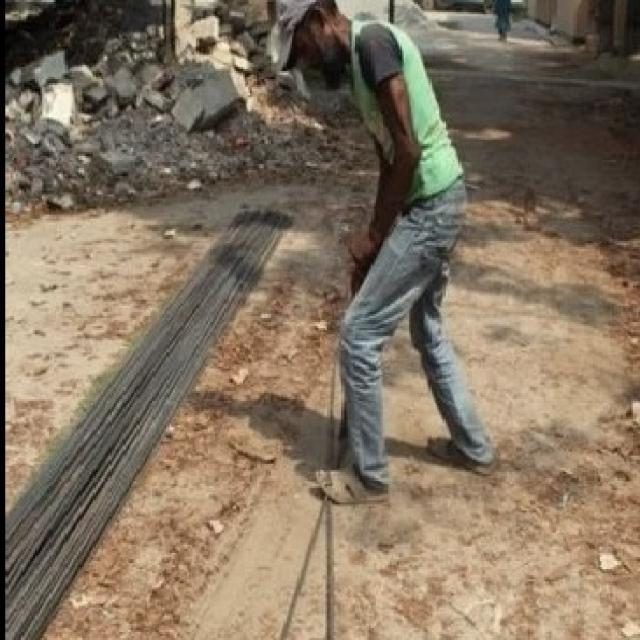no-boots: (420, 388, 512, 482), (316, 413, 399, 507)
no-gloves: (336, 158, 417, 265)
no-helmet: (266, 0, 350, 101)
no-vest: (352, 9, 510, 201)
person: (240, 1, 552, 531)
